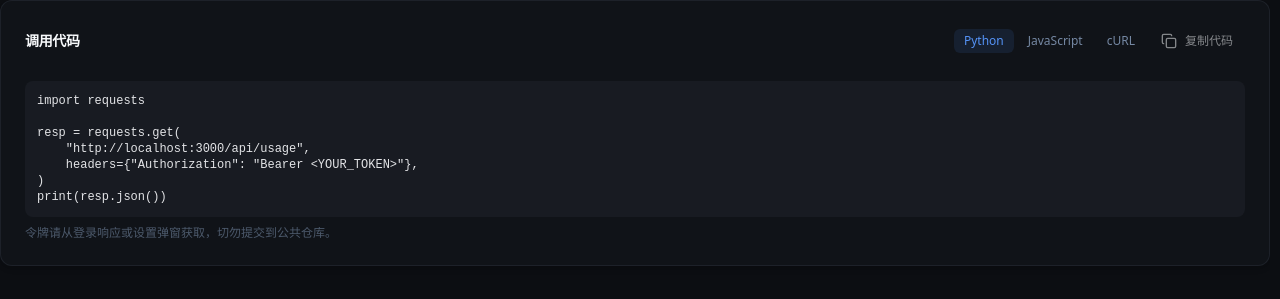
Test: CodeSnippetGenerator › 三种语言片段可切换且包含 URL 与鉴权头
Check: the text with test id "snippet-content" shows "requests.get", box [37,94,419,204]
Check: the text with test id "snippet-content" shows "/api/usage", box [37,94,419,204]
Click the tab "JavaScript" at (1055, 41), box [1018,29,1093,53]
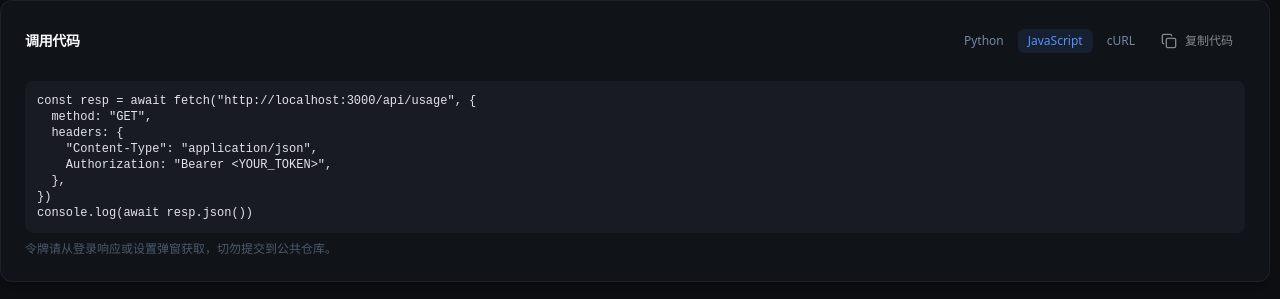
Check: the text with test id "snippet-content" shows "fetch", box [37,94,476,220]
Click the tab "cURL" at (1121, 41), box [1097,29,1145,53]
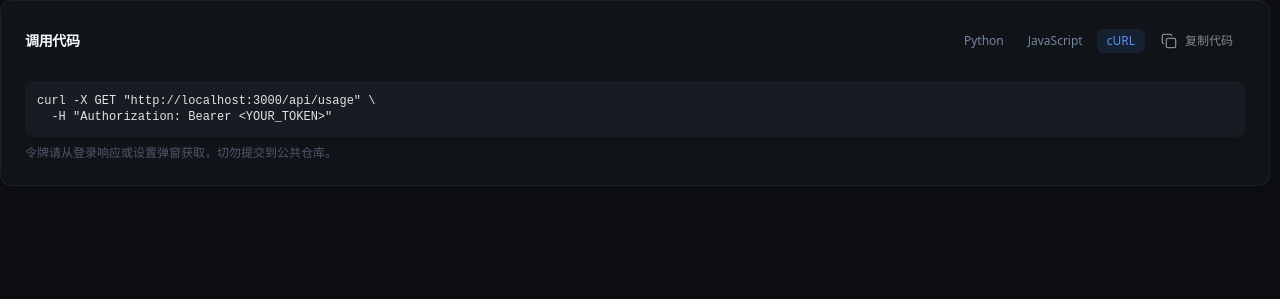
Check: the text with test id "snippet-content" shows "curl -X GET", box [37,94,376,124]
